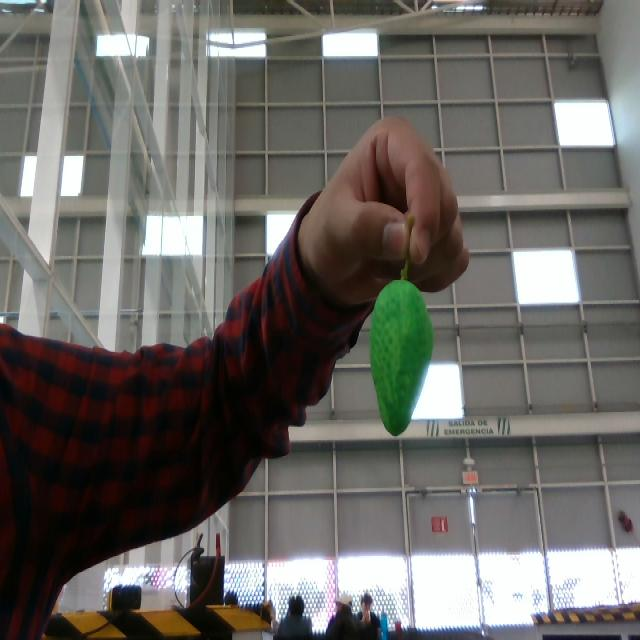verde: (367, 280, 434, 435)
